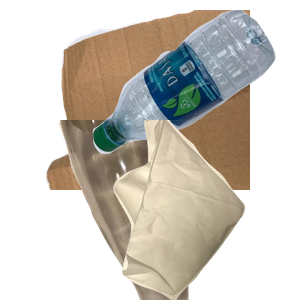cardboard: (43, 10, 283, 190)
glass: (56, 120, 241, 300)
plastic: (90, 10, 300, 156)
trash: (111, 120, 300, 300)
